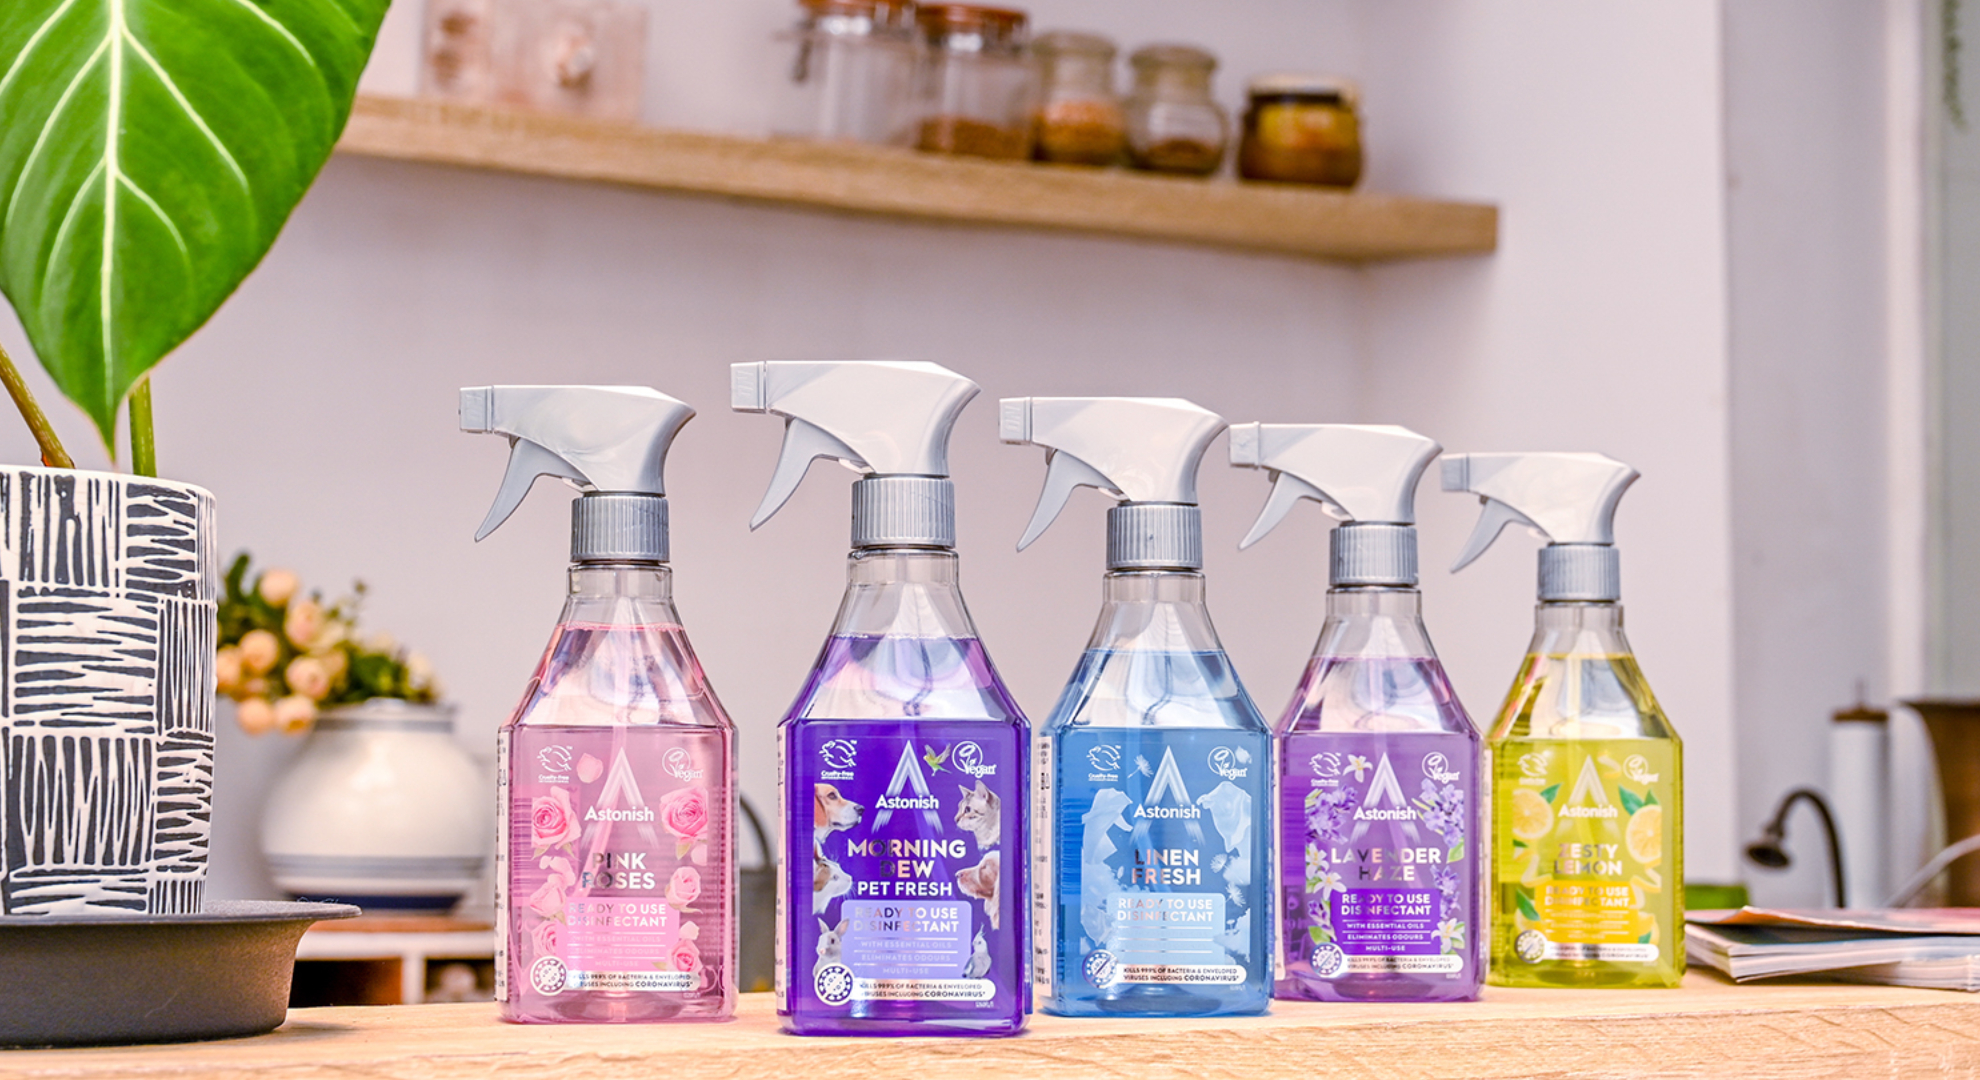cleaner: (707, 344, 1044, 1045), (433, 372, 761, 1037), (992, 379, 1298, 1027), (1195, 406, 1509, 1016), (1416, 418, 1709, 998)
